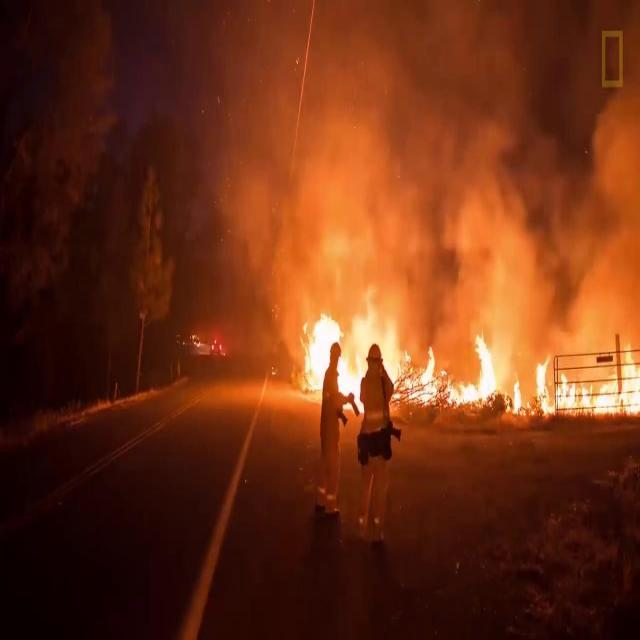Fire: (303, 281, 397, 410), (532, 342, 640, 417), (397, 335, 495, 408), (503, 382, 523, 414)
